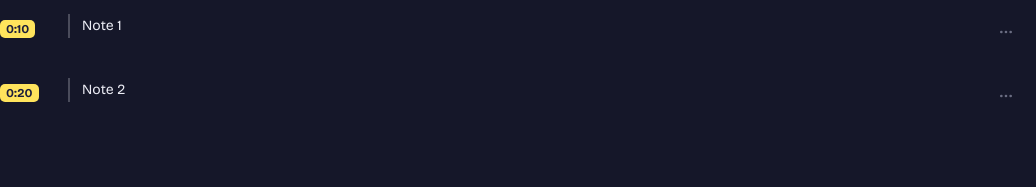
Test: confirms before deleting, focuses Delete, and restores focus on Escape
Click the button named "Moment actions" in the row of "Note 1" at (1006, 32), box x1=988 y1=14 x2=1024 y2=50
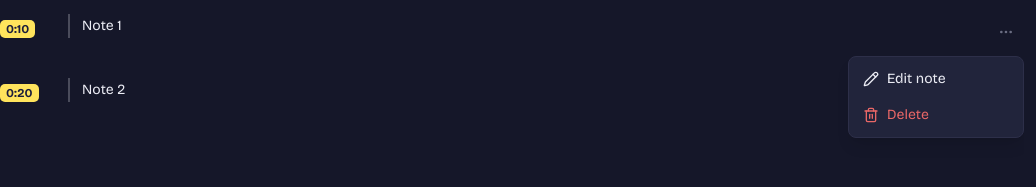
Click the menu item "Delete" at (896, 114), box x1=863 y1=106 x2=929 y2=123
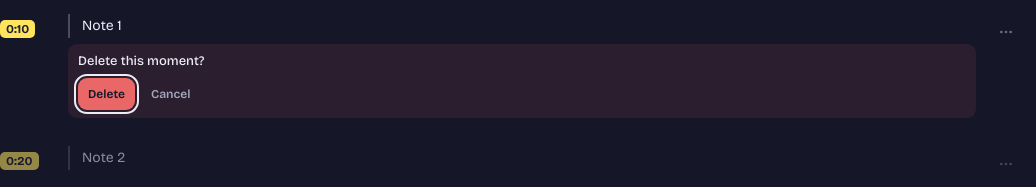
Press Escape
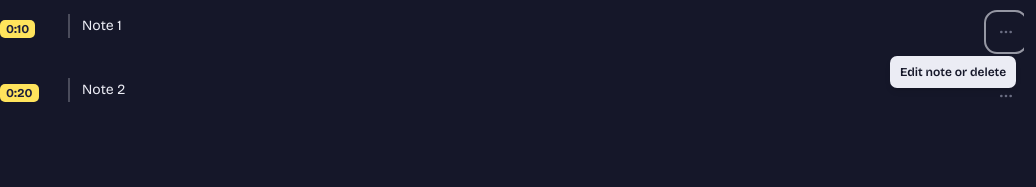
Expected: the text "Delete this moment?" is gone
